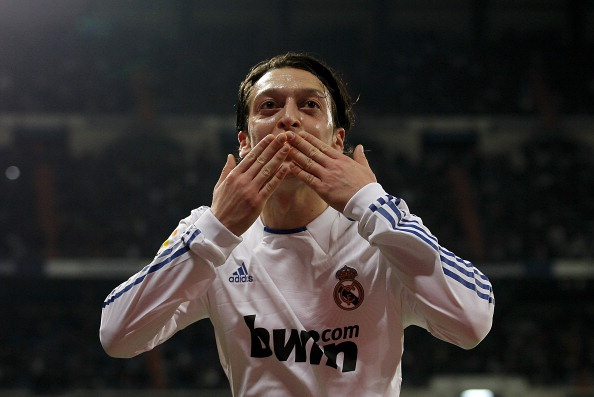face: (246, 67, 337, 185)
